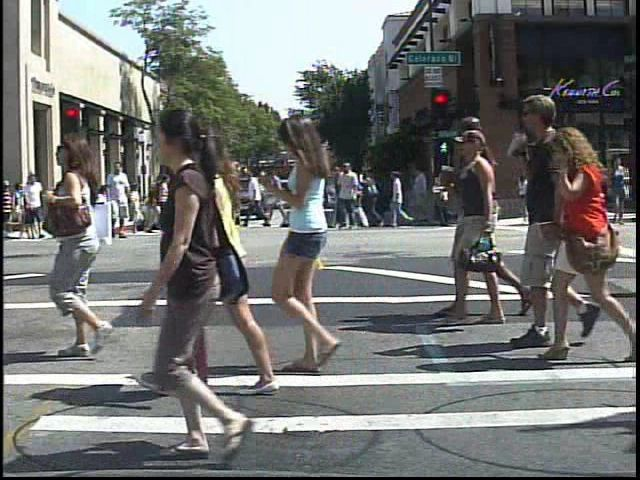person: (109, 102, 291, 469), (169, 118, 306, 399), (483, 81, 580, 353), (269, 110, 366, 375), (35, 129, 140, 366), (538, 123, 636, 361), (104, 161, 137, 242), (57, 164, 87, 242), (471, 157, 502, 230), (21, 169, 47, 242), (3, 173, 17, 240), (98, 179, 118, 223)
